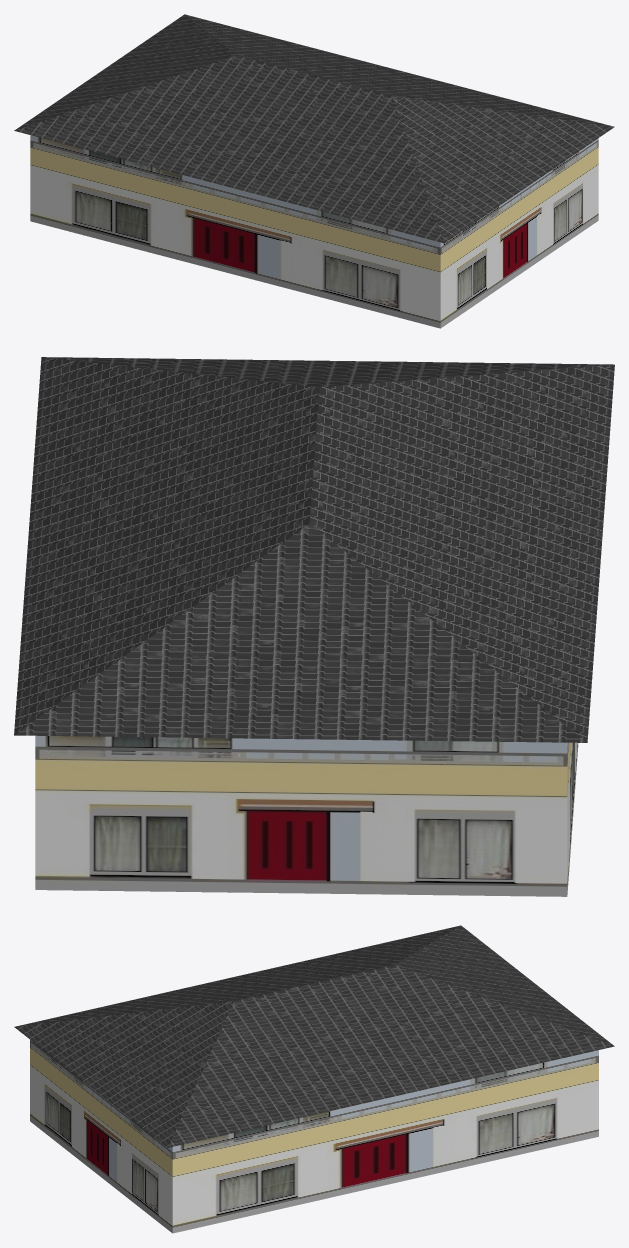
3 renders of one model, top to bottom at view 1: azimuth 30°, elevation 25°; view 2: azimuth 150°, elevation 25°; view 3: azimuth 270°, elevation 25°, orthographic. The views are drawn at different scales.
Parts seen in each view (by area): view 1: CityEngineMaterial_16_m, CityEngineMaterial_15_m; view 2: CityEngineMaterial_16_m, CityEngineMaterial_15_m; view 3: CityEngineMaterial_16_m, CityEngineMaterial_15_m.
Boxes of the visible parts, left/top/right/bottom form: CityEngineMaterial_16_m: left=14, top=14, right=614, bottom=243; CityEngineMaterial_15_m: left=30, top=135, right=598, bottom=328; CityEngineMaterial_16_m: left=14, top=357, right=614, bottom=742; CityEngineMaterial_15_m: left=35, top=735, right=578, bottom=896; CityEngineMaterial_16_m: left=14, top=925, right=614, bottom=1147; CityEngineMaterial_15_m: left=30, top=1040, right=598, bottom=1233.
Bounding box in the file's own units: 41.91 × 12.82 × 47.83.
